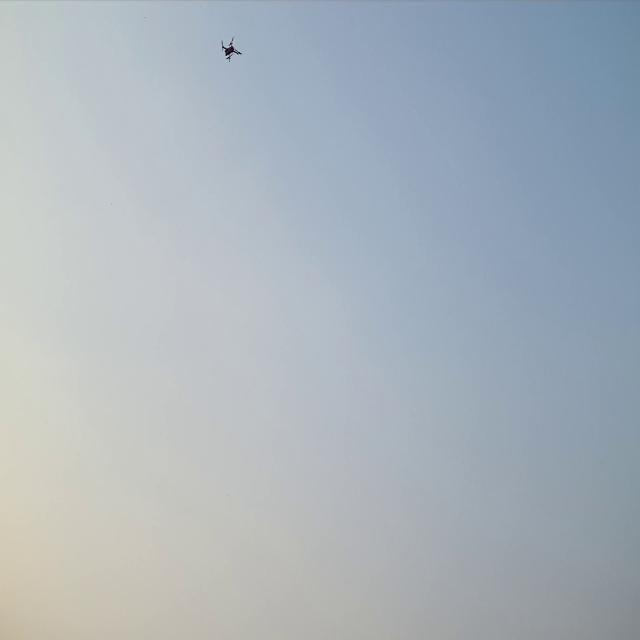UAV: (219, 32, 246, 68)
